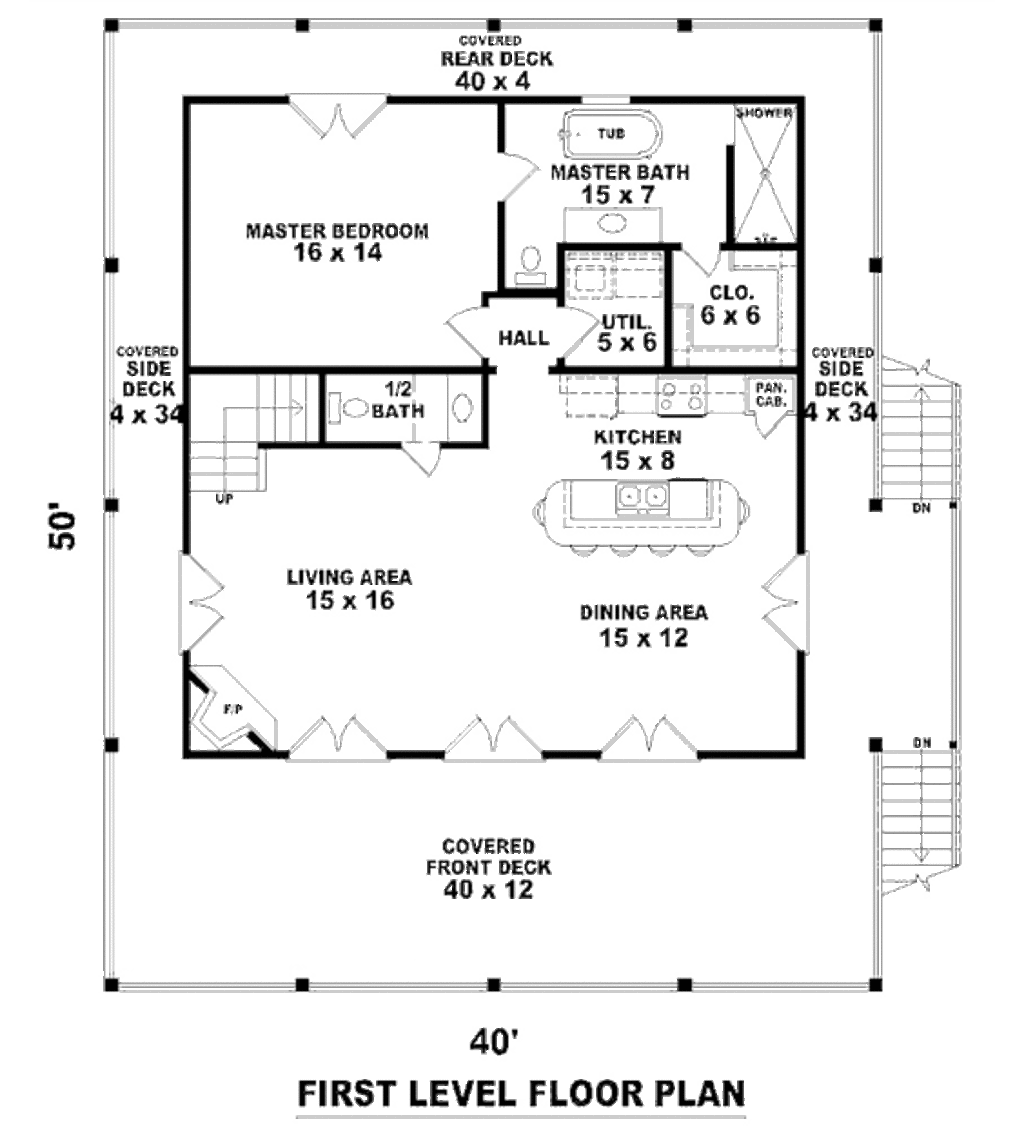door: (285, 709, 401, 762), (172, 550, 229, 653), (281, 88, 391, 141), (756, 553, 806, 649), (598, 712, 694, 760), (440, 714, 538, 759), (493, 147, 540, 207), (447, 300, 492, 361), (553, 304, 599, 356), (395, 439, 453, 476)
kitchen_bar: (527, 473, 752, 556)
large_sink: (506, 241, 553, 296), (324, 384, 372, 433)
small_sink: (564, 201, 657, 245), (444, 371, 483, 442)
stairs: (182, 361, 318, 507), (871, 727, 963, 898), (875, 351, 966, 519)
tub: (559, 106, 668, 163)
